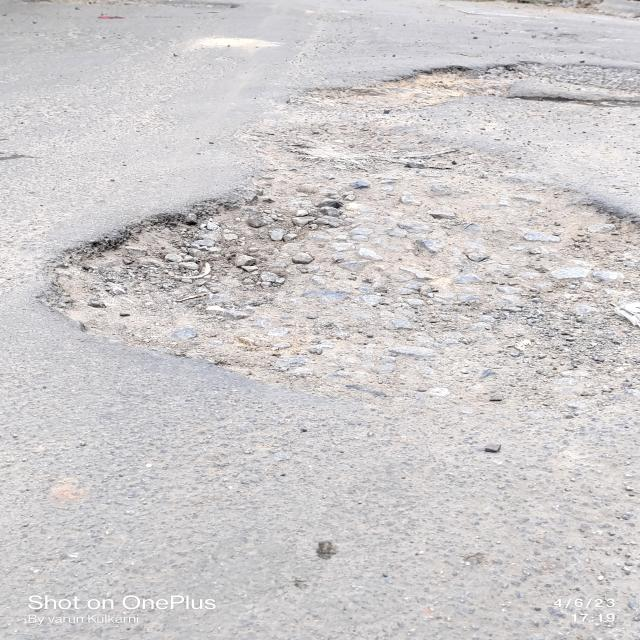potholes: (18, 198, 640, 394), (365, 61, 640, 114)
